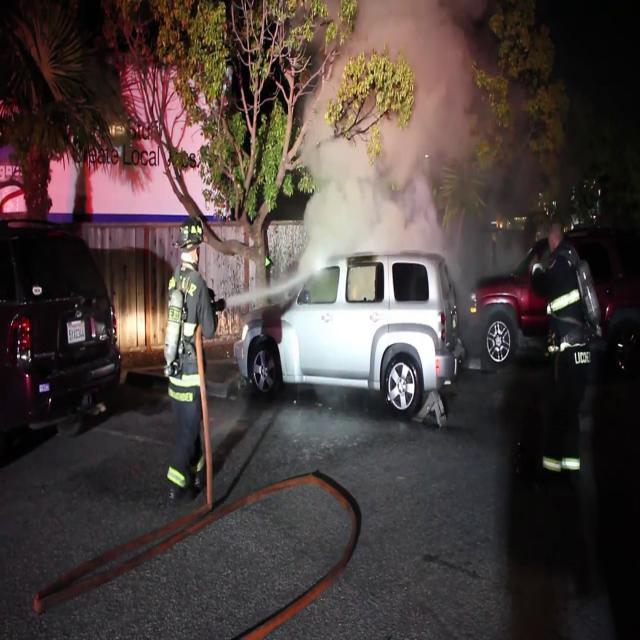Smoke: (282, 0, 478, 292)
